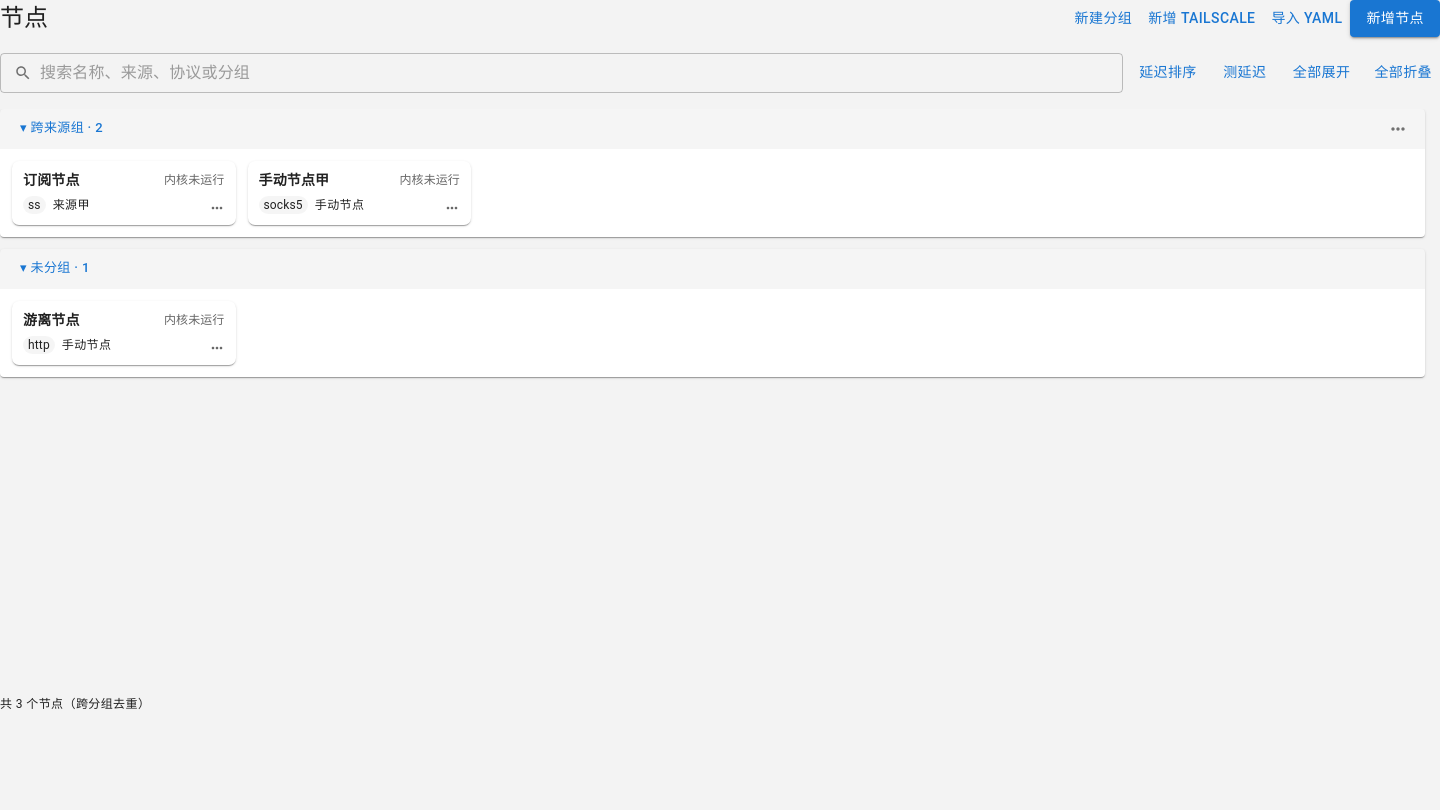
Test: opens proxy creation from the node context menu without submitting it
Right-click the element "订阅节点": (124, 192) [12,160,236,224]
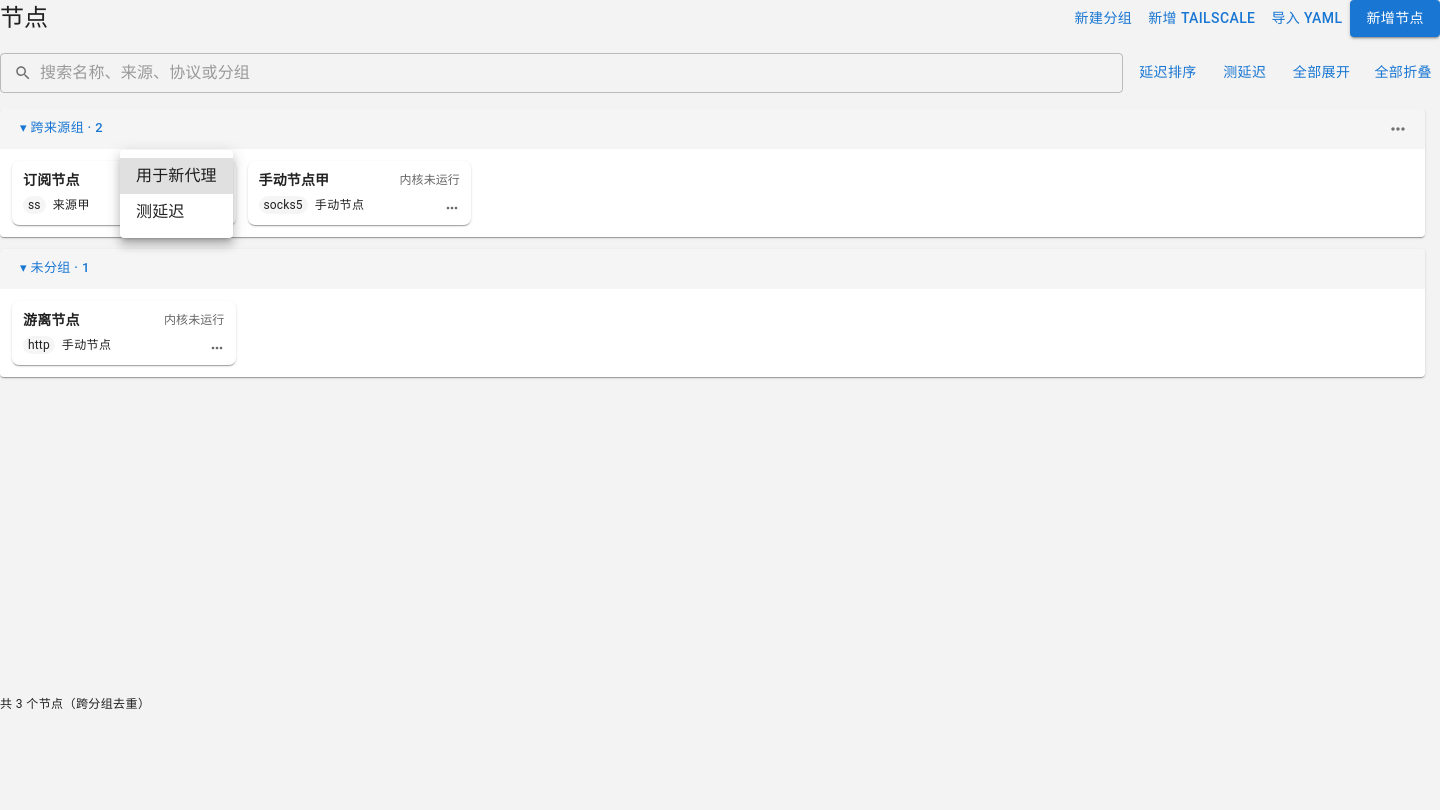
Click the menu item with aria-label "用于新代理 订阅节点": (176, 176) [120,158,233,194]
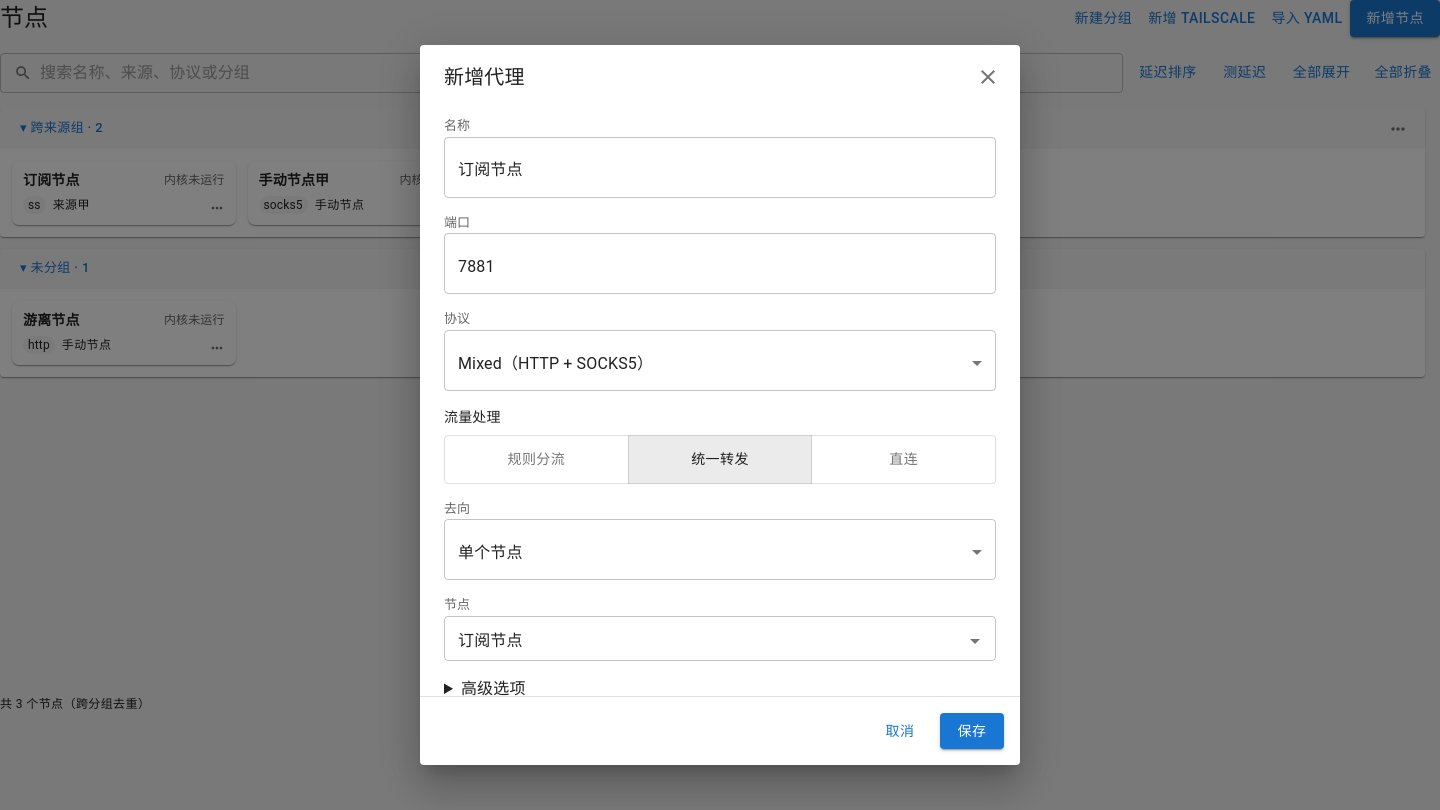
expect the dialog "新增代理" is shown: met, box [420,45,1020,765]
expect the field labelled "名称" holds "订阅节点": met, box [444,142,996,198]
